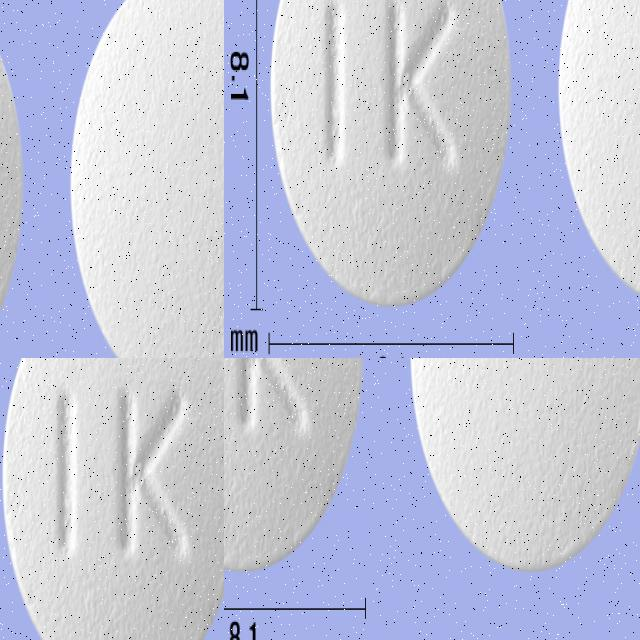Jecli: (1, 439, 224, 640)
Lenacin: (0, 247, 95, 358)
Lesacra: (408, 358, 640, 569), (224, 358, 364, 572)
Proxacinby Tab: (268, 0, 513, 314), (554, 0, 640, 314)
